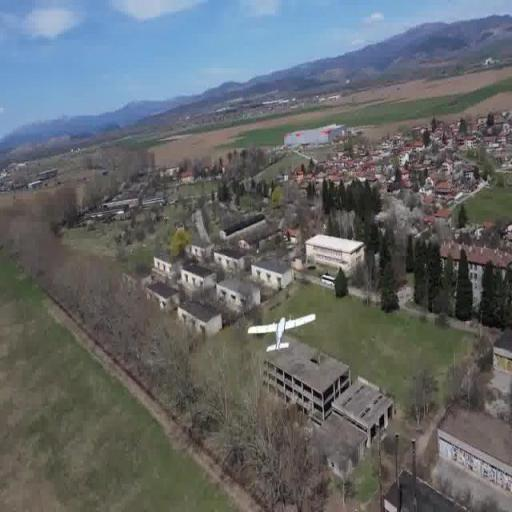uav: (242, 304, 318, 358)
